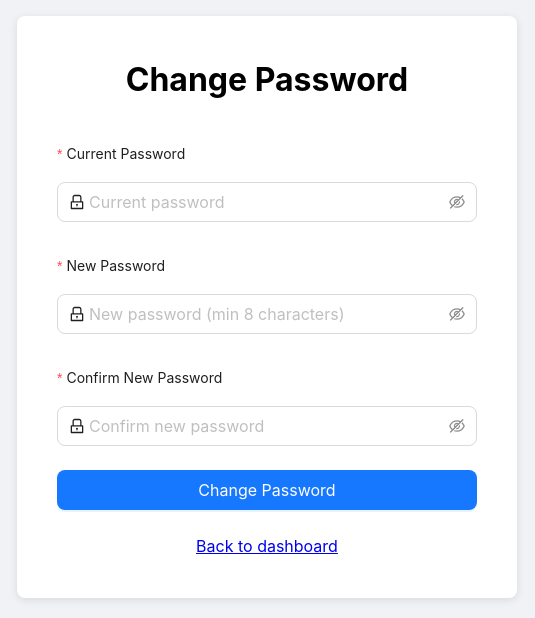
Scenario: PasswordChangePage › Form Validation › should show error when new password is too short
This screenshot has width=535, height=618.
Type "oldpass123" into the password field labelled "Current Password" at [267, 202], box [89,190,445,214]
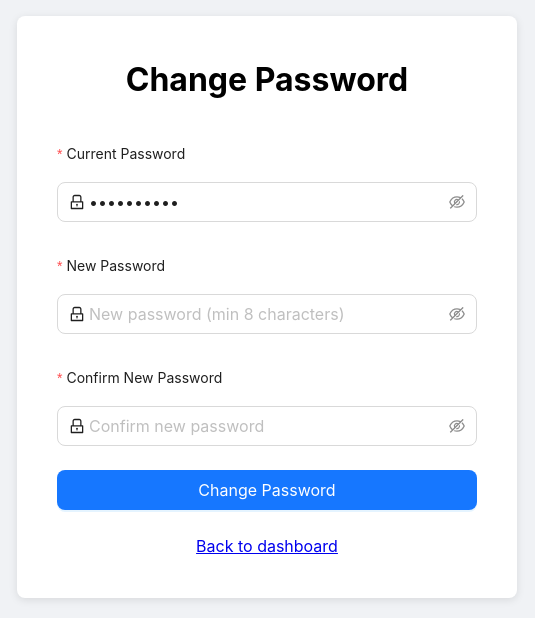
Type "12345" into the password field labelled "New Password" at [267, 314], box [89,302,445,326]
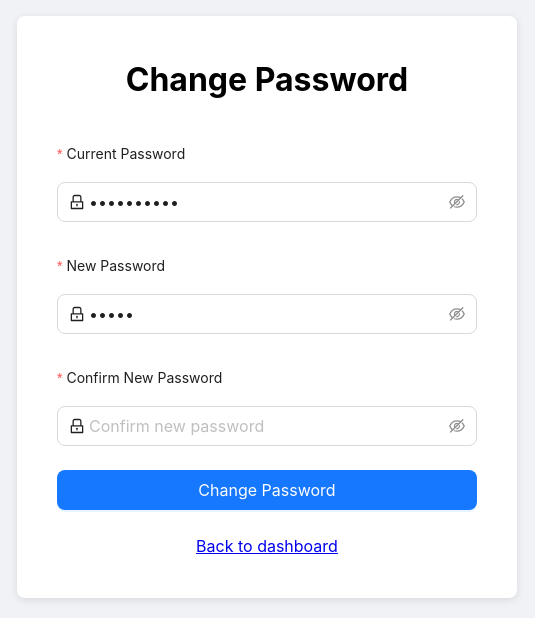
Click the button "Change Password" at [267, 490], box [57,470,477,510]
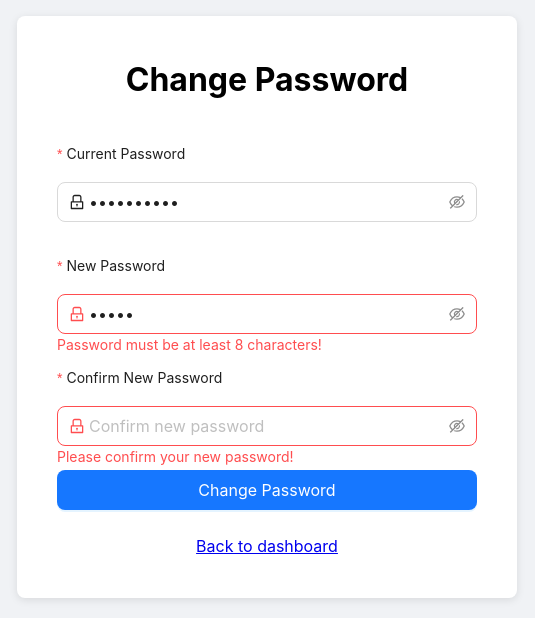
expect the text "Password must be at least 8 characters!" is shown: met, box [57,336,322,353]
